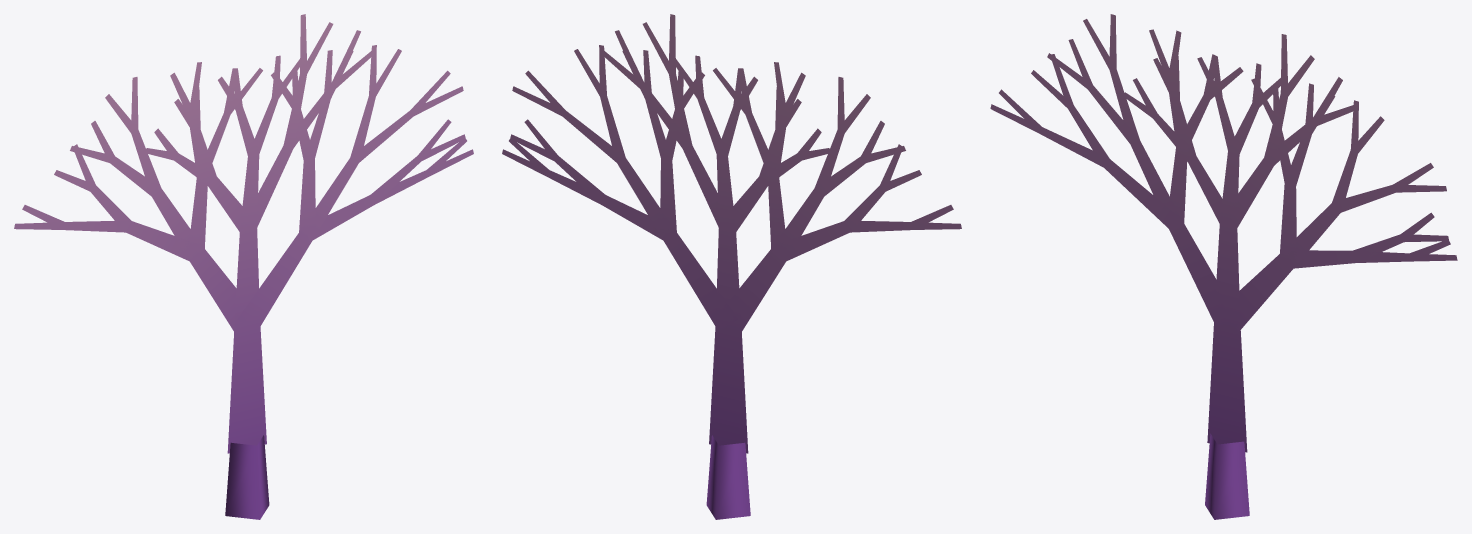
Rendered from east_seafan.glb.
The picture shows the model from 3 angles, left to right: view 1: azimuth 30°, elevation 25°; view 2: azimuth 150°, elevation 25°; view 3: azimuth 330°, elevation 25°; orthographic projection.
Parts seen in each view (by area): view 1: east_seafan; view 2: east_seafan; view 3: east_seafan.
Part boxes in pixels (x1,y1,x2,y2): east_seafan: (14,14,473,519); east_seafan: (502,14,961,519); east_seafan: (990,14,1457,519).
Size of the model in its own units: 0.936 by 0.938 by 0.09.
